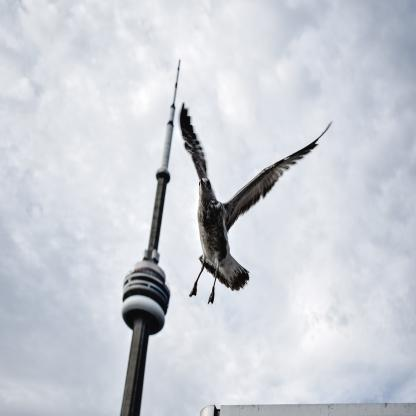bird: (178, 102, 332, 303)
